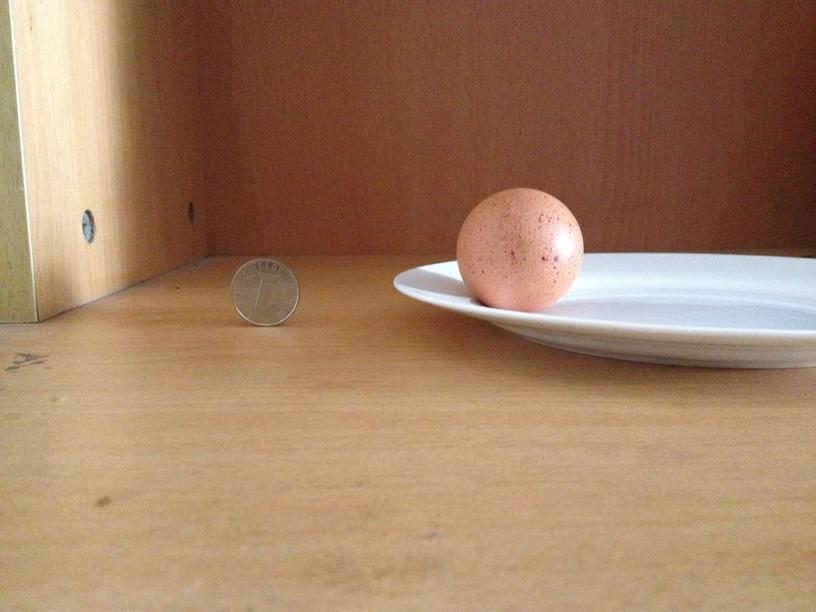coin: (226, 254, 301, 326)
egg: (454, 191, 584, 312)
